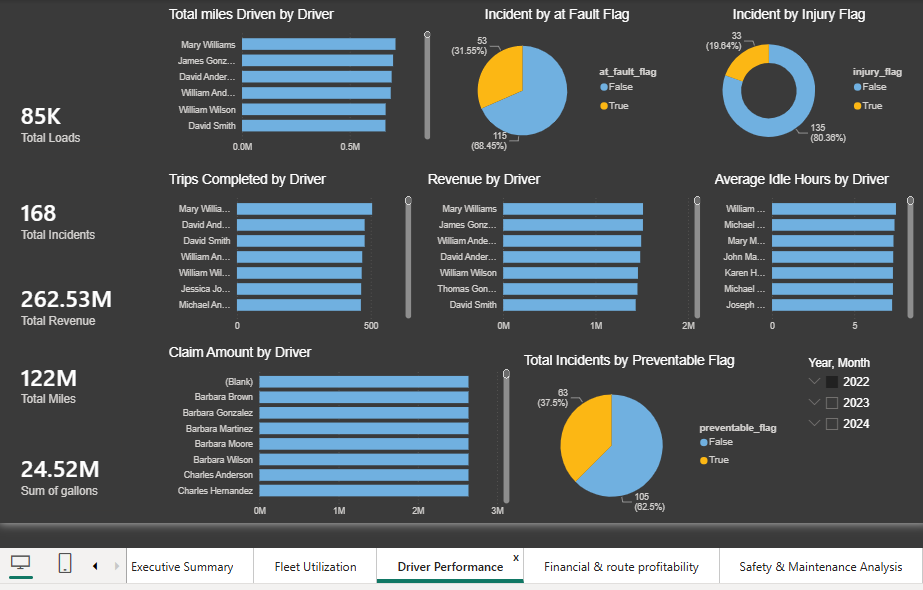

This screenshot's page, from the dashboard's own definition file:
{"tool":"powerbi","page":{"name":"Driver Performance","canvas":[1280,720],"ordinal":2},"visuals":[{"type":"cardVisual","fields":{"Data":["key_metrics.Total Revenue"]},"box":[0,350.9,186.2,135.1],"z":0},{"type":"cardVisual","fields":{"Data":["key_metrics.Total Miles"]},"box":[0,466.2,186.2,118.6],"z":1000},{"type":"barChart","title":"Total miles Driven by Driver","fields":{"Category":["drivers.driver_fullname"],"Y":["Sum(driver_monthly_metrics.total_miles)"]},"box":[228.5,9.6,370.2,209.2],"z":2000},{"type":"clusteredBarChart","title":"Trips Completed by Driver","fields":{"Category":["drivers.driver_fullname"],"Y":["Sum(driver_monthly_metrics.trips_completed)"]},"box":[228.5,236.7,344.1,228.5],"z":3000},{"type":"pieChart","title":"Incident by at Fault Flag","fields":{"Category":["safety_incidents.at_fault_flag"],"Y":["key_metrics.Total Incidents"]},"box":[609.7,9.6,316.6,209.2],"z":4000},{"type":"donutChart","title":"Incident by Injury Flag","fields":{"Category":["safety_incidents.injury_flag"],"Y":["key_metrics.Total Incidents"]},"box":[938.7,9.6,324.8,209.2],"z":5000},{"type":"clusteredBarChart","title":"Revenue by Driver ","fields":{"Y":["Sum(driver_monthly_metrics.total_revenue)"],"Category":["drivers.driver_fullname"]},"box":[584.9,236.7,385.4,228.5],"z":6000},{"type":"clusteredBarChart","title":"Claim Amount by Driver","fields":{"Category":["drivers.driver_fullname"],"Y":["Sum(safety_incidents.claim_amount)"]},"box":[228.5,474.8,479,245],"z":7000},{"type":"pieChart","title":"Total Incidents by Preventable Flag","fields":{"Category":["safety_incidents.preventable_flag"],"Y":["key_metrics.Total Incidents"]},"box":[717.1,485.8,373,234],"z":8000},{"type":"barChart","title":"Average Idle Hours by Driver","fields":{"Category":["drivers.driver_fullname"],"Y":["key_metrics.Average Idle Hours"]},"box":[980,236.7,283.5,228.5],"z":9000},{"type":"slicer","fields":{"Values":["driver_monthly_metrics.month.Variation.Date Hierarchy.Year","driver_monthly_metrics.month.Variation.Date Hierarchy.Month"]},"box":[1101.1,485.8,162.4,234],"z":10000},{"type":"cardVisual","fields":{"Data":["Sum(fuel_purchases.gallons)"]},"box":[0,584.8,186.2,135.1],"z":11000},{"type":"cardVisual","fields":{"Data":["key_metrics.Total Incidents"]},"box":[0,238.9,186.2,121.9],"z":12000},{"type":"cardVisual","fields":{"Data":["key_metrics.Total Loads"]},"box":[0,113.7,186.2,105.4],"z":13000}]}

Visuals, with their boxes on the page's 1280x720 design canvas (x1, y1, x2, y2). These are canvas units, not pixel positions in the 923x590 screenshot, which may show the page scaled, cropped or inside an application window:
cardVisual - key_metrics.Total Revenue: x1=0, y1=351, x2=186, y2=486
cardVisual - key_metrics.Total Miles: x1=0, y1=466, x2=186, y2=585
"Total miles Driven by Driver" barChart: x1=228, y1=10, x2=599, y2=219
"Trips Completed by Driver" clusteredBarChart: x1=228, y1=237, x2=573, y2=465
"Incident by at Fault Flag" pieChart: x1=610, y1=10, x2=926, y2=219
"Incident by Injury Flag" donutChart: x1=939, y1=10, x2=1264, y2=219
"Revenue by Driver " clusteredBarChart: x1=585, y1=237, x2=970, y2=465
"Claim Amount by Driver" clusteredBarChart: x1=228, y1=475, x2=708, y2=720
"Total Incidents by Preventable Flag" pieChart: x1=717, y1=486, x2=1090, y2=720
"Average Idle Hours by Driver" barChart: x1=980, y1=237, x2=1264, y2=465
slicer - driver_monthly_metrics.month.Variation.Date Hierarchy.Year x driver_monthly_metrics.month.Variation.Date Hierarchy.Month: x1=1101, y1=486, x2=1264, y2=720
cardVisual - Sum(fuel_purchases.gallons): x1=0, y1=585, x2=186, y2=720
cardVisual - key_metrics.Total Incidents: x1=0, y1=239, x2=186, y2=361
cardVisual - key_metrics.Total Loads: x1=0, y1=114, x2=186, y2=219
